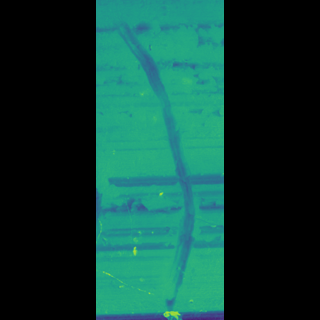Loch: (137, 4, 181, 319)
